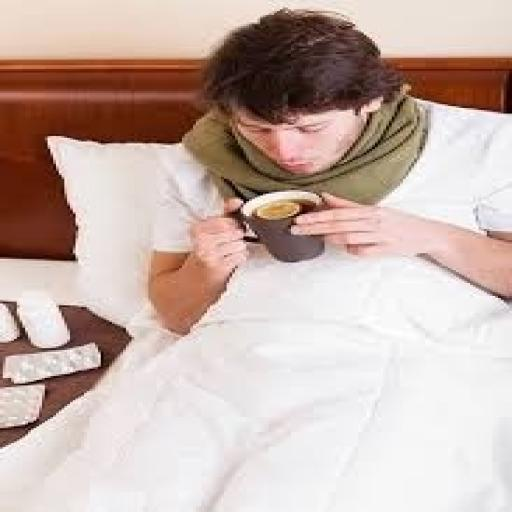drinking: (235, 8, 386, 262)
